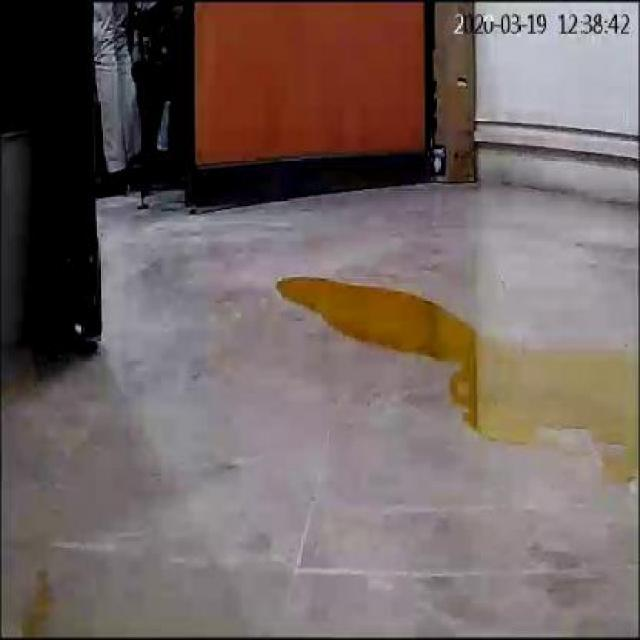spill: (278, 275, 634, 474)
